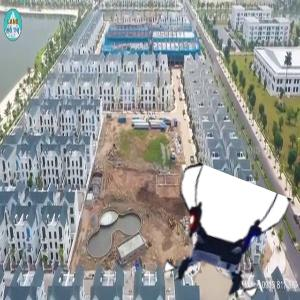drone: (161, 177, 284, 300)
